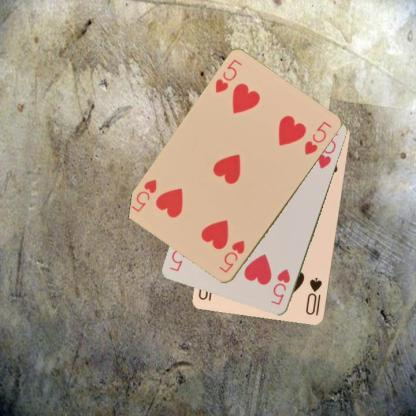10s: (304, 275, 324, 317)
5h: (212, 56, 243, 94), (216, 238, 246, 275), (268, 266, 292, 307)
